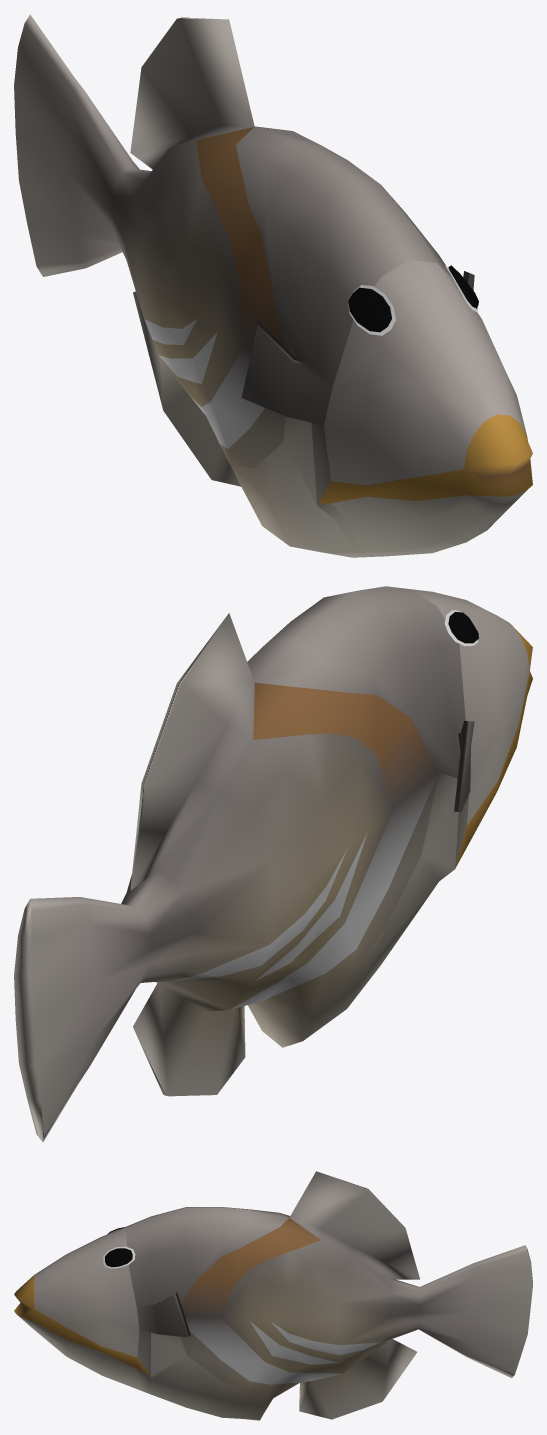
File: underwater-fish-triggerfish_v1.glb
3 renders of one model, top to bottom at view 1: azimuth 30°, elevation 25°; view 2: azimuth 150°, elevation 25°; view 3: azimuth 270°, elevation 25°, orthographic. The views are drawn at different scales.
Visible parts, largest first — view 1: Triggerfish_v1; view 2: Triggerfish_v1; view 3: Triggerfish_v1.
Part boxes in pixels (x1=…): Triggerfish_v1: x1=14, y1=14, x2=532, y2=557; Triggerfish_v1: x1=14, y1=586, x2=532, y2=1142; Triggerfish_v1: x1=14, y1=1171, x2=532, y2=1420.
Size of the model in its own units: 0.0644 by 0.1327 by 0.25.
